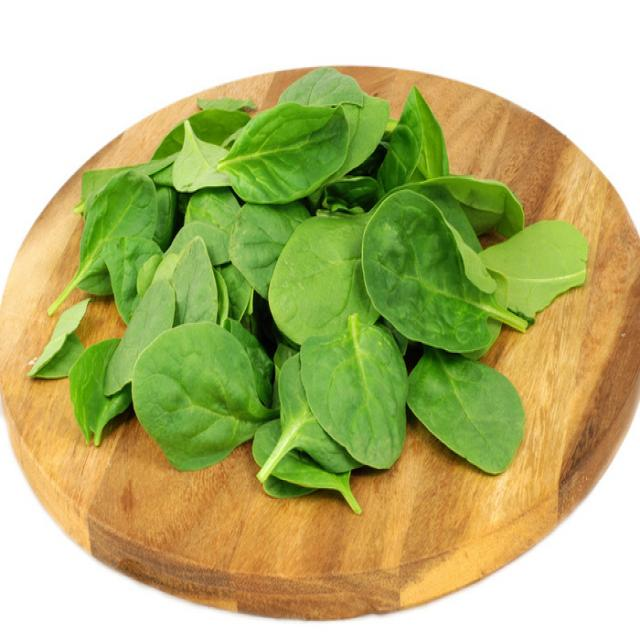spinach: (132, 325, 260, 468), (361, 200, 471, 342), (305, 325, 408, 470), (414, 359, 526, 477), (228, 108, 346, 198), (270, 219, 359, 323), (96, 174, 155, 241), (175, 246, 219, 323)
